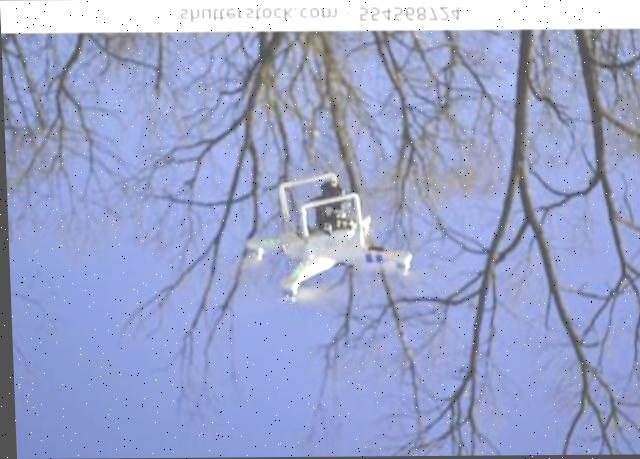drone: (140, 121, 519, 362)
